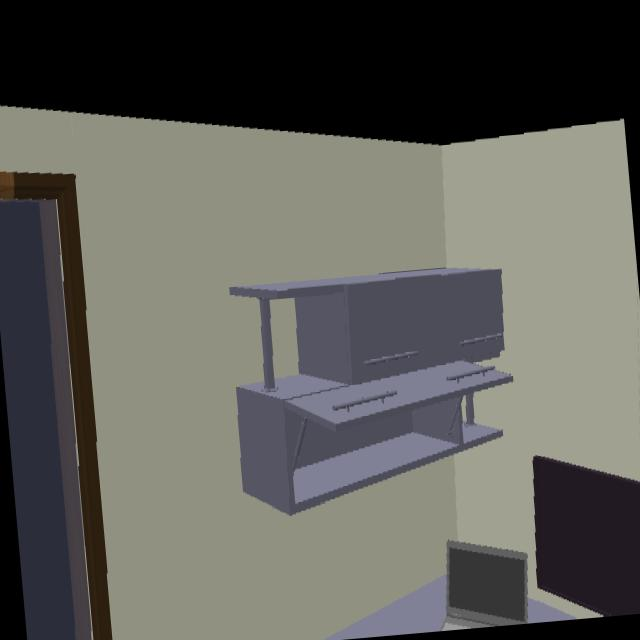cabinet: (230, 270, 511, 507)
laptop: (445, 543, 530, 630)
monitor: (530, 456, 640, 617)
